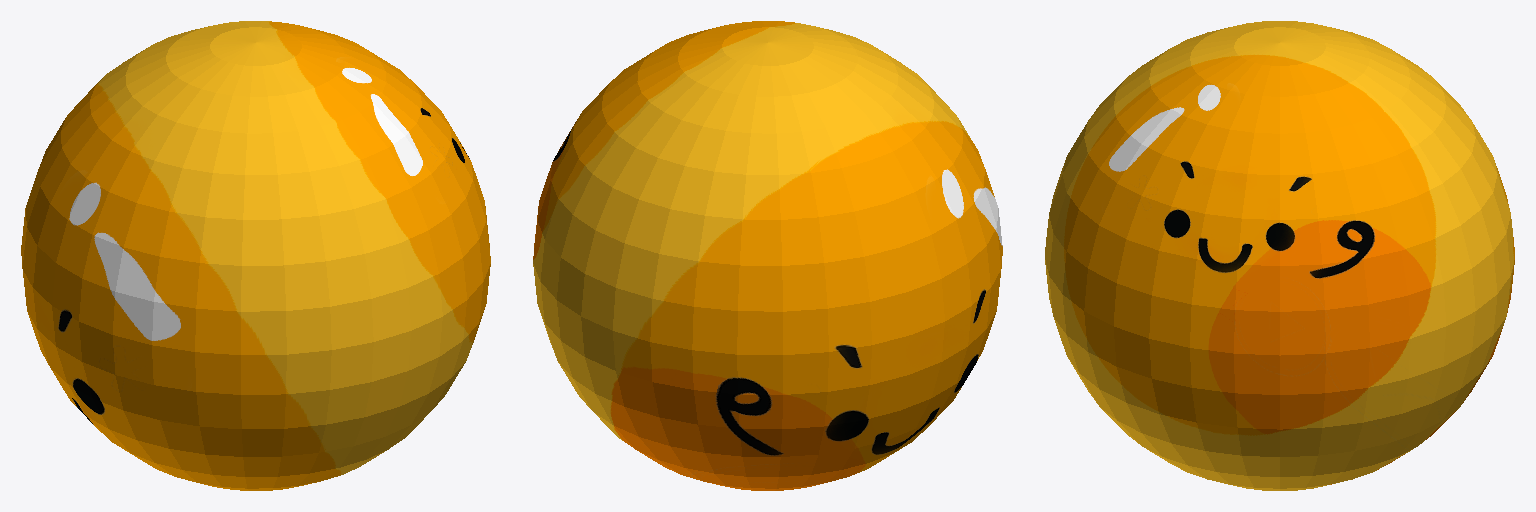
3 views of the same model, side by side, from view 1: azimuth 30°, elevation 25°; view 2: azimuth 150°, elevation 25°; view 3: azimuth 270°, elevation 25° (orthographic).
Visible parts, largest first — view 1: Sphere; view 2: Sphere; view 3: Sphere.
Part boxes in pixels (bbox=[...]): Sphere: bbox=[21, 21, 490, 490]; Sphere: bbox=[533, 21, 1002, 490]; Sphere: bbox=[1045, 21, 1514, 490].
Size of the model in its own units: 2 by 2 by 2.
1 materials, 1 textured.